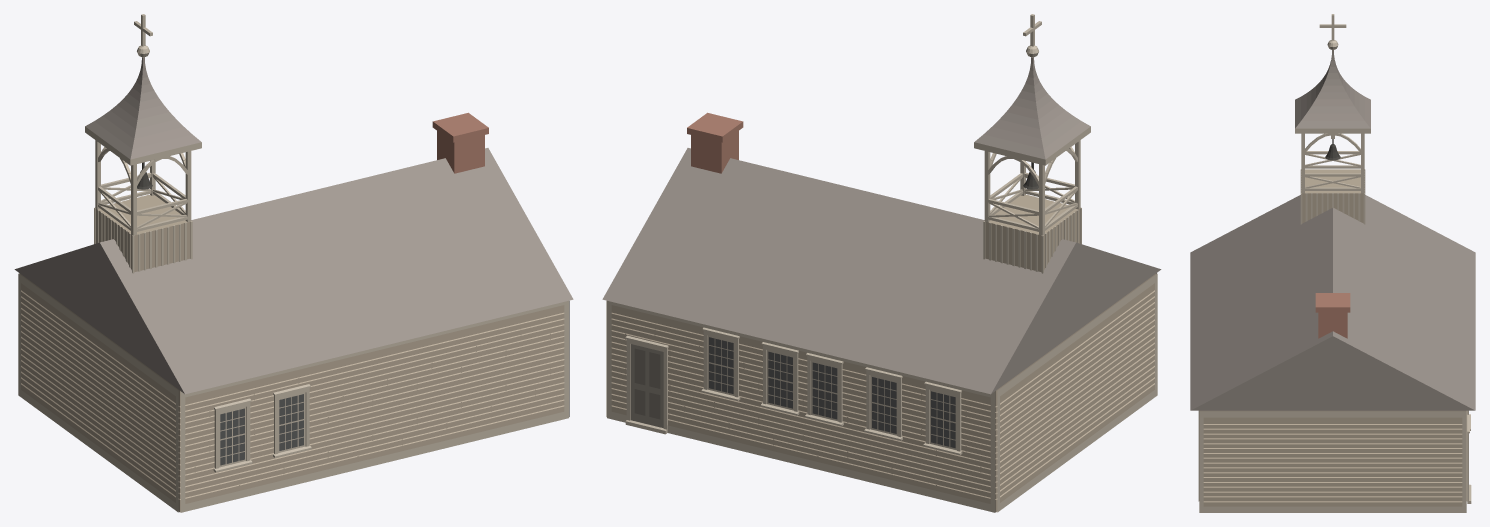
File: st_marys_church__frame_1833.glb
The picture shows the model from 3 angles, left to right: view 1: azimuth 30°, elevation 25°; view 2: azimuth 150°, elevation 25°; view 3: azimuth 270°, elevation 25°; orthographic projection. The views are drawn at different scales.
Parts seen in each view (by area): view 1: st_marys_church__frame_1833; view 2: st_marys_church__frame_1833; view 3: st_marys_church__frame_1833.
Boxes of the visible parts, left/top/right/bottom form: st_marys_church__frame_1833: left=14, top=14, right=573, bottom=512; st_marys_church__frame_1833: left=602, top=14, right=1161, bottom=512; st_marys_church__frame_1833: left=1190, top=14, right=1475, bottom=512.
Bounding box in the file's own units: 10.73 × 11.23 × 8.12.
